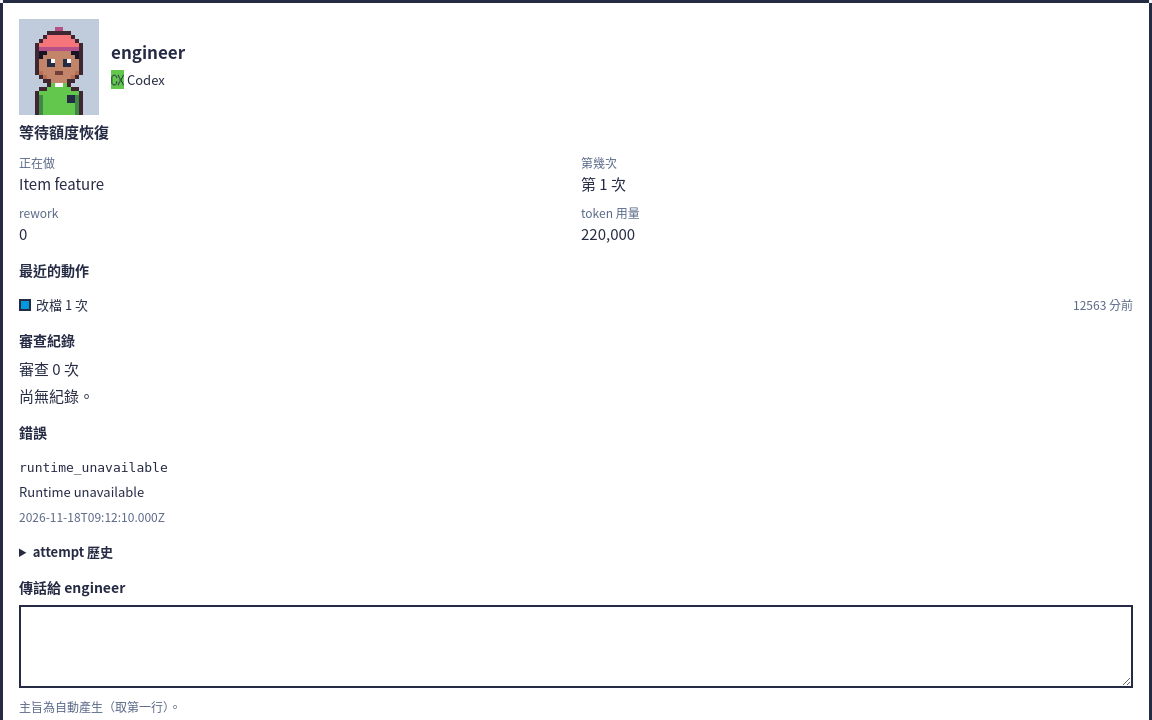
Scenario: errors, optional rate limit and attempt history are accessible without transcript content
The width and height of the screenshot is (1152, 720).
Check: the text with test id "seat-state" reads "等待額度恢復", box [19,121,109,142]
Check: the element with test id "seat-errors" shows "runtime_unavailable", box [19,460,168,475]
Click the heading with test id "seat-attempt-toggle".
click(73, 552)  # box [33,542,113,561]
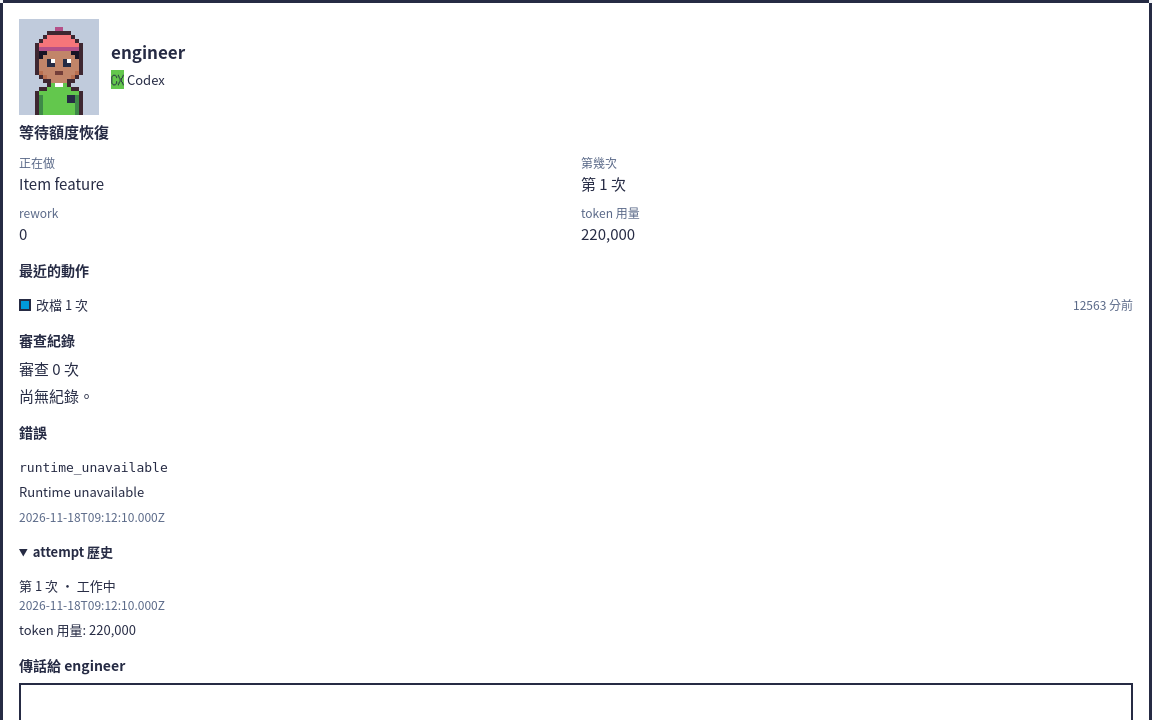
Check: the element with test id "seat-attempt-history" shows "220,000", box [89,620,136,639]
